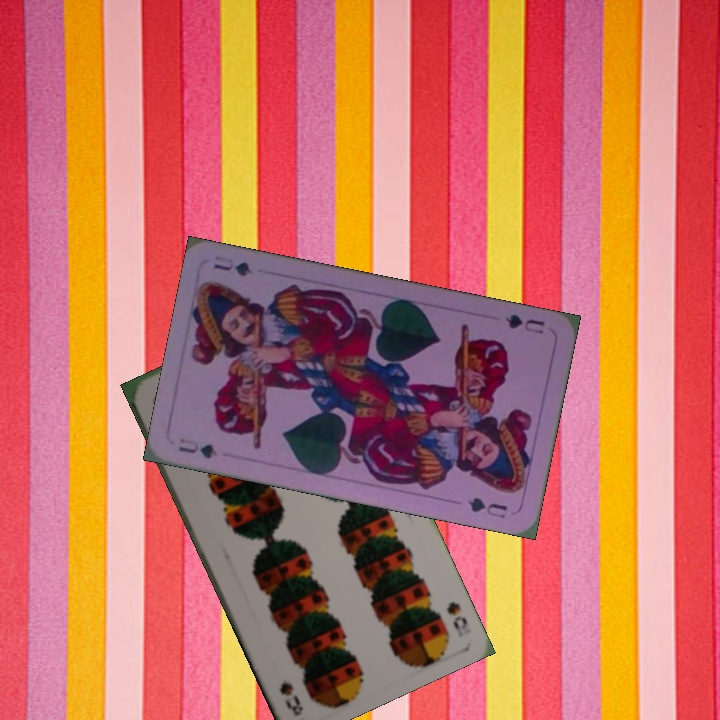GU: (174, 434, 221, 462), (501, 310, 547, 337)
S8: (442, 597, 474, 640)
